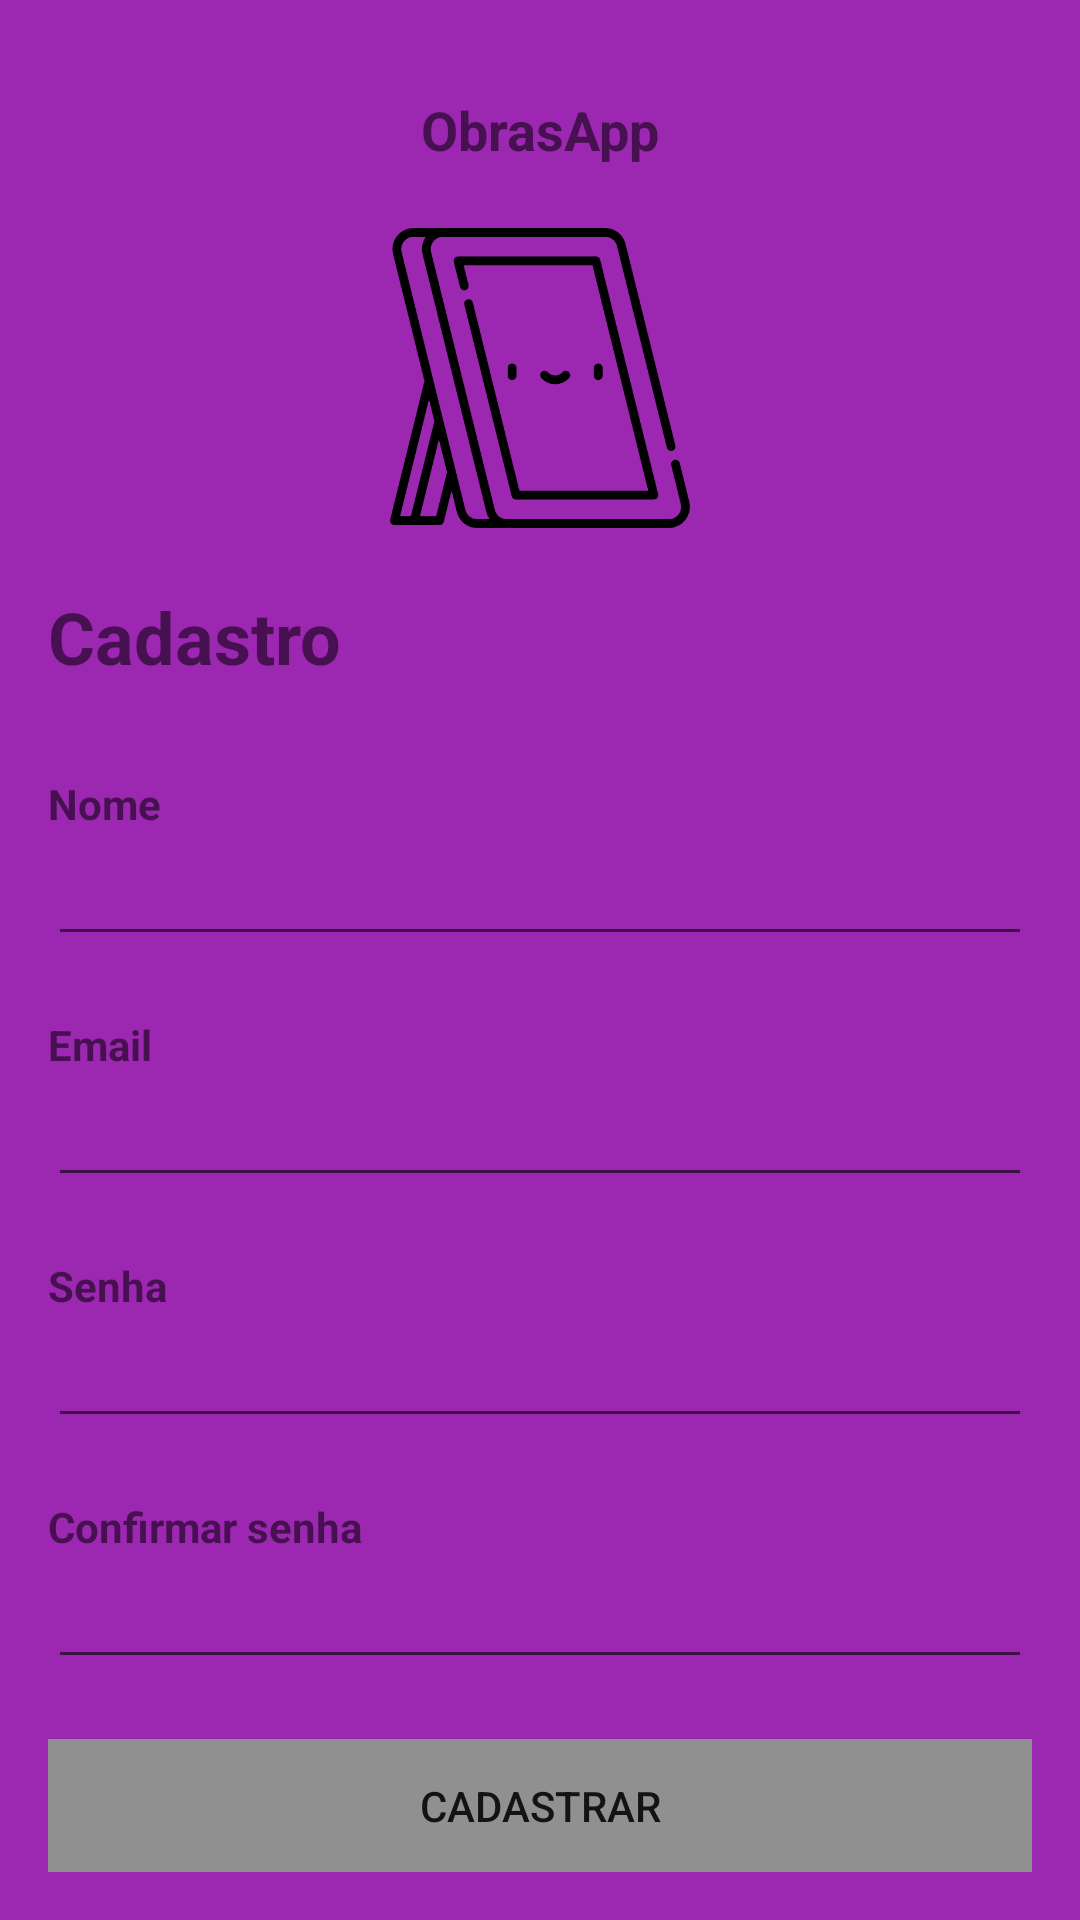

Where icons sit on this 1080px x 1920px app screen, as (x1, y1, x2, y2):
quadro: (390, 228, 690, 528)
